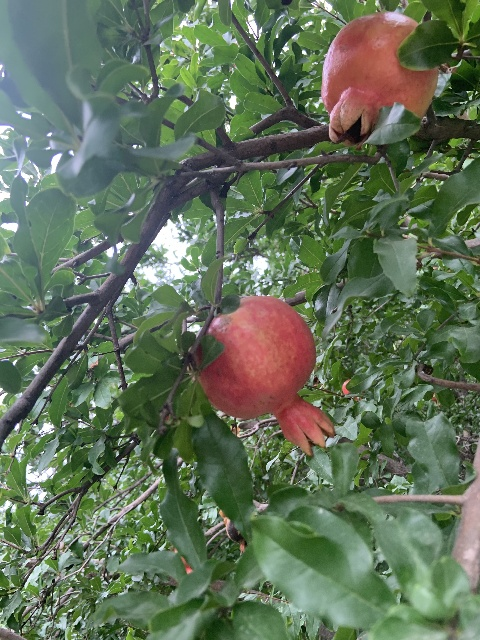ripe: (195, 296, 333, 457), (320, 11, 437, 149)
